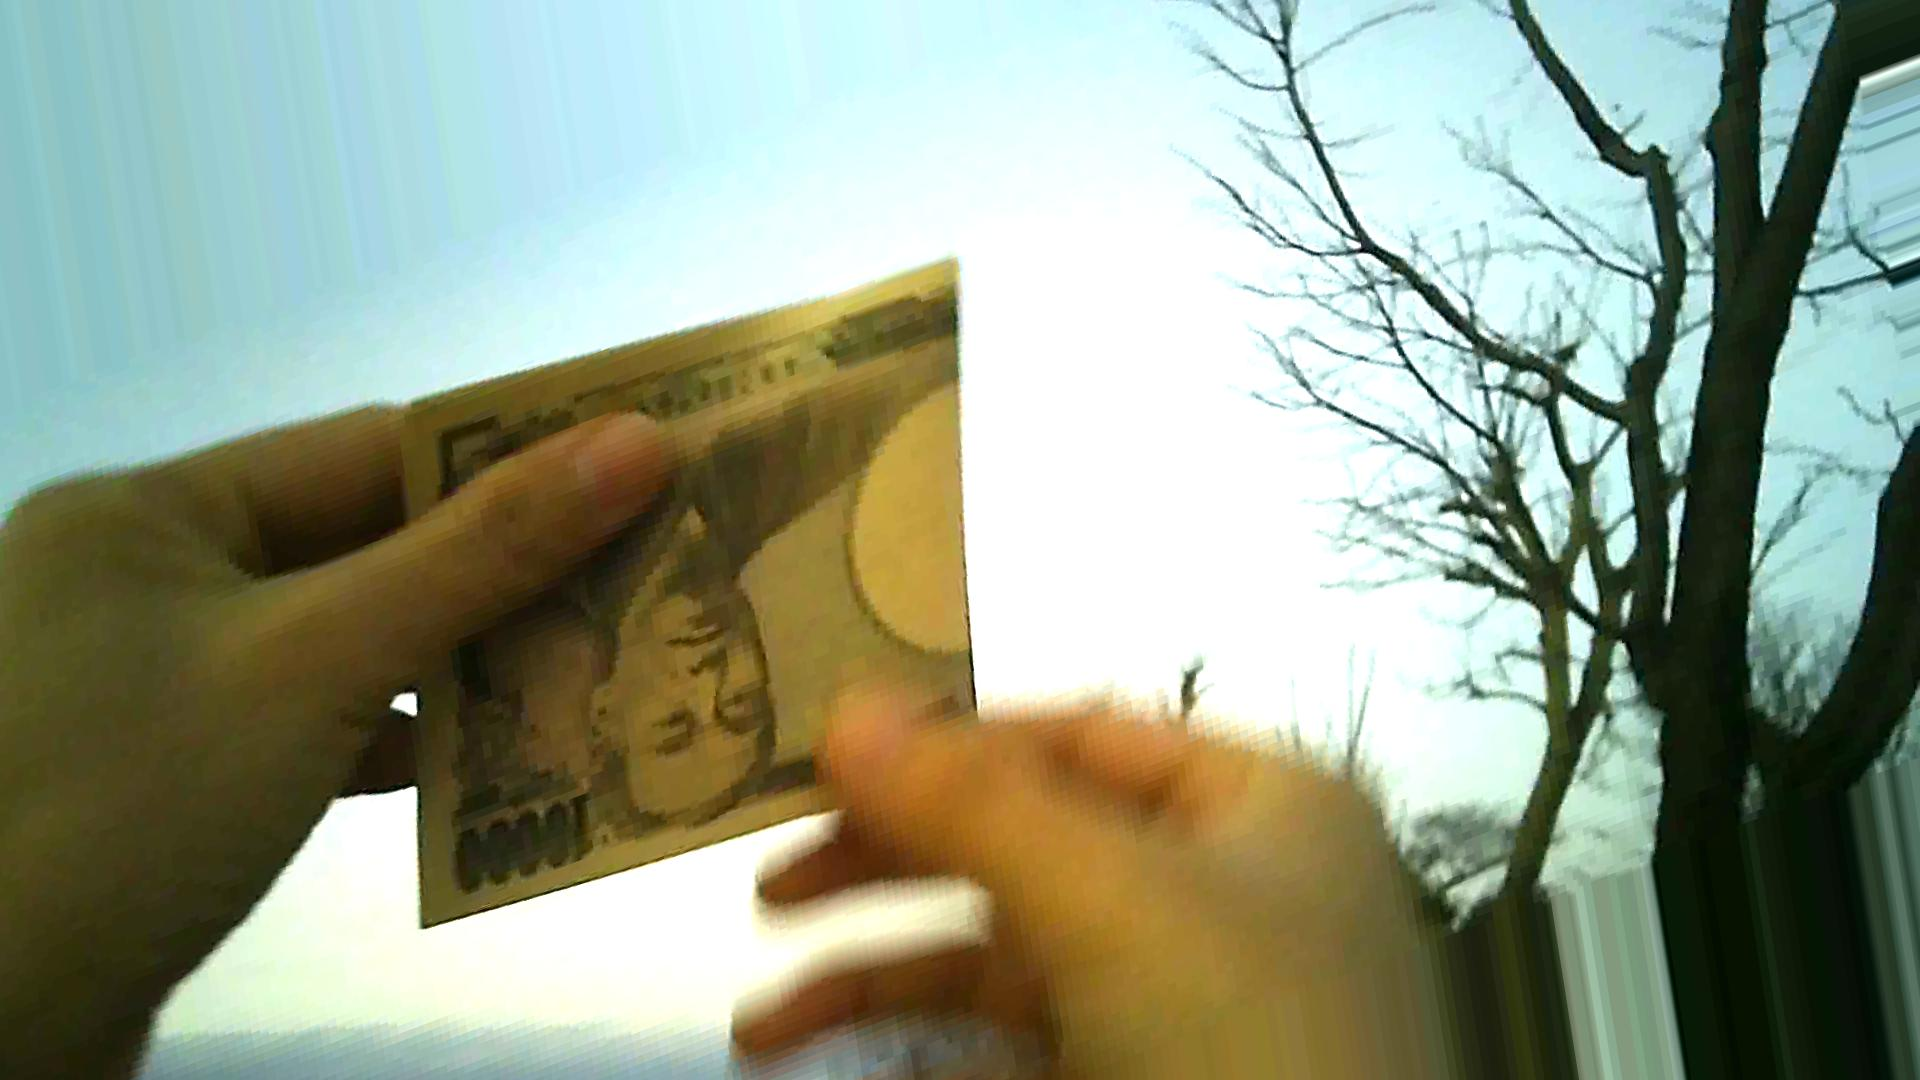10,000 Yen: (371, 266, 1052, 938)
